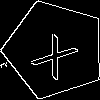X: (30, 24, 85, 81)
